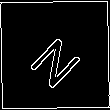N_NE: (23, 22, 87, 88)
